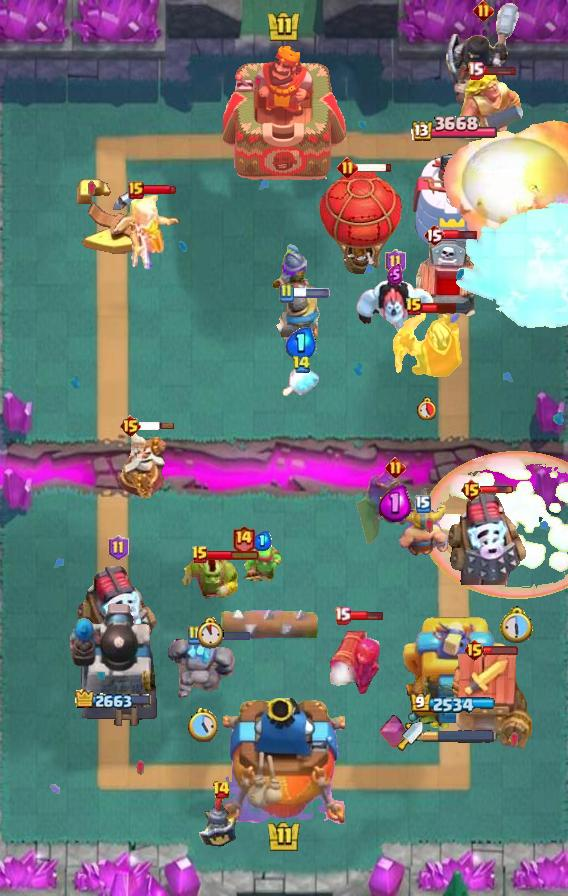bar: (401, 611, 505, 731)
barbarian-hut: (354, 467, 436, 551)
bat: (282, 366, 320, 398)
bomb-tower: (270, 243, 330, 303)
cannon-cart: (317, 169, 403, 277)
electro-spirit: (379, 485, 411, 523), (287, 328, 317, 361), (253, 531, 272, 551), (387, 264, 403, 285)
elixir: (501, 606, 536, 644), (188, 708, 218, 742), (195, 617, 225, 649), (416, 396, 436, 420)
elixir-collector: (114, 429, 174, 503)
elixir-golem-mid: (413, 239, 483, 325)
emote: (208, 549, 261, 561), (200, 629, 251, 641), (422, 301, 459, 315), (442, 228, 477, 241), (356, 162, 393, 174), (141, 184, 177, 196), (483, 64, 518, 76), (348, 610, 383, 622), (483, 644, 519, 655), (292, 288, 330, 298), (139, 421, 175, 431), (480, 485, 514, 495)
firecracker: (274, 290, 322, 350)
flying-machine: (180, 553, 240, 607)
giant-snowball: (241, 543, 283, 581)
goblin-giant: (395, 505, 451, 559)
goblin-hut: (455, 70, 525, 144)
golem: (445, 493, 529, 585), (76, 564, 160, 654)
inferno-dragon: (442, 0, 524, 110)
king-tower: (223, 43, 345, 181), (223, 698, 345, 826)
king-tower-bar: (423, 729, 495, 743)
mega-knight: (452, 199, 567, 335)
mega-minion: (326, 617, 384, 697)
minion: (218, 609, 320, 645)
phoenix-big: (420, 448, 568, 599)
poison: (104, 189, 188, 273)
princess: (196, 793, 246, 851)
queen-tower: (410, 144, 496, 255)
rage: (355, 278, 435, 332)
selected: (409, 116, 497, 144), (410, 693, 496, 715), (75, 688, 153, 712)
skeleton-king: (389, 307, 463, 381)
skeleton-king-skill: (379, 714, 407, 750)
sparky: (446, 653, 532, 751)
text: (231, 525, 256, 556), (118, 414, 141, 438), (461, 478, 484, 502), (462, 638, 485, 662), (385, 249, 406, 275), (107, 535, 128, 561), (423, 223, 445, 247), (337, 157, 359, 179), (385, 457, 406, 478), (474, 0, 495, 20), (212, 780, 232, 800), (405, 297, 423, 317), (292, 355, 312, 373), (191, 545, 209, 565), (467, 61, 485, 79), (278, 283, 294, 303), (186, 625, 202, 645), (334, 607, 351, 625), (128, 181, 144, 199), (415, 495, 431, 513)
tower-bar: (69, 599, 159, 731)
valkyrie: (438, 118, 568, 250)
valkyrie-evolution: (167, 633, 239, 701)
